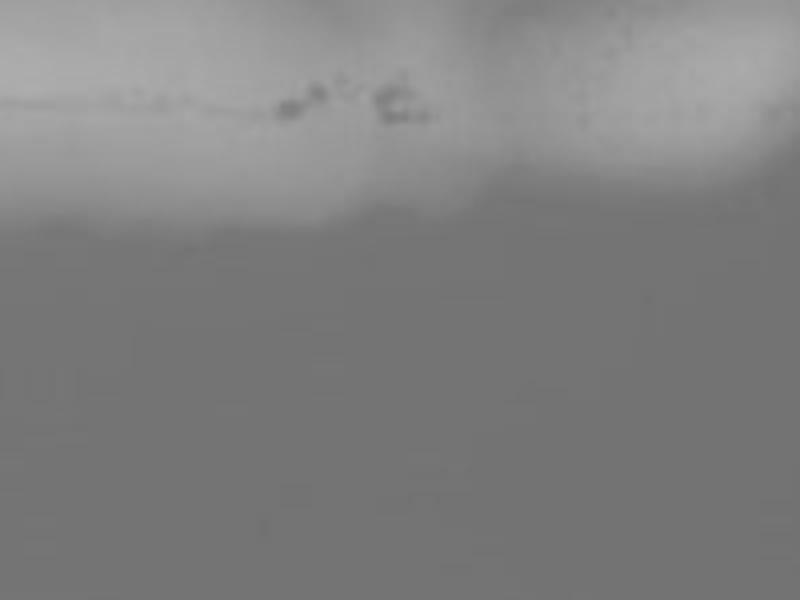defect: (366, 76, 430, 122), (761, 89, 795, 121), (332, 65, 359, 97), (278, 95, 306, 118), (301, 84, 329, 105)
